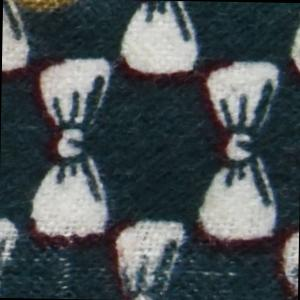Oil Stain: (5, 1, 85, 15)
